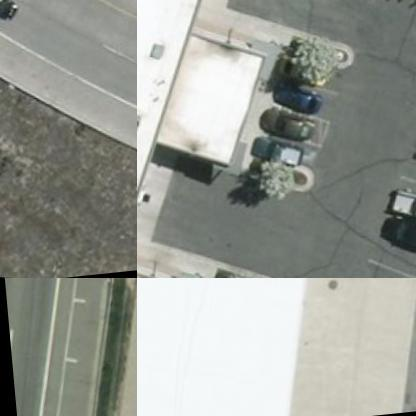car: (366, 213, 415, 273), (252, 108, 313, 148), (262, 85, 322, 125), (243, 136, 293, 174), (380, 193, 415, 242)
